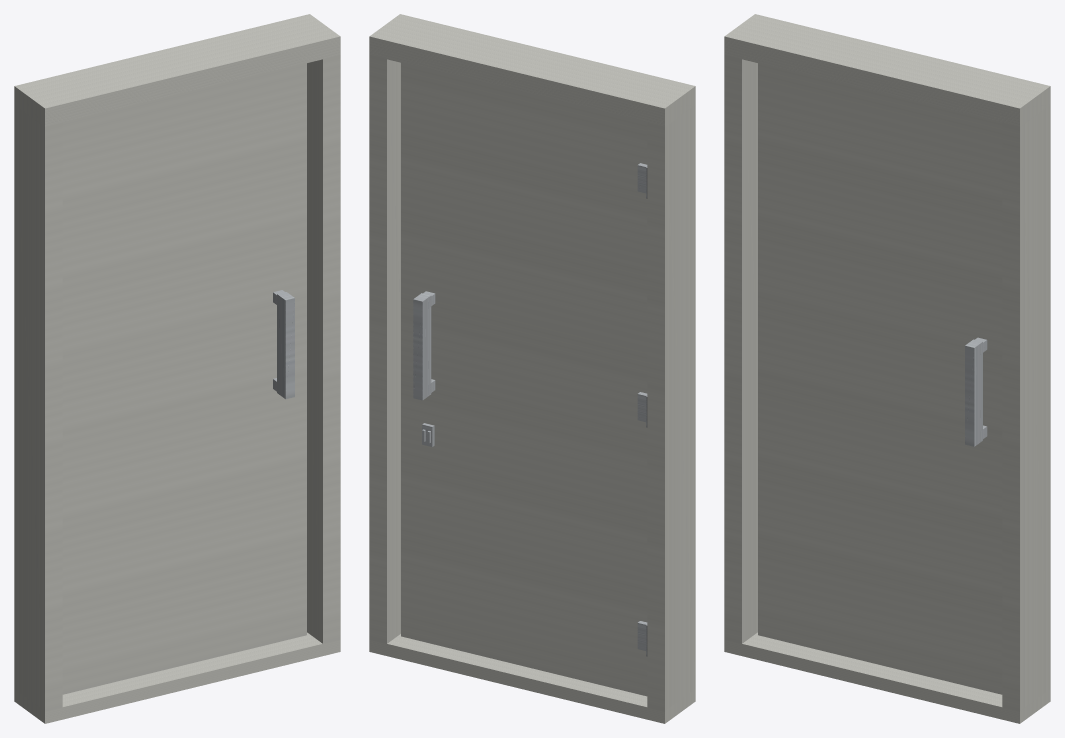
File: door-steel-1.glb
3 views of the same model, side by side, from view 1: azimuth 30°, elevation 25°; view 2: azimuth 150°, elevation 25°; view 3: azimuth 330°, elevation 25° (orthographic).
Visible parts, largest first — view 1: passenger-swing-door, DoorSteel1; view 2: passenger-swing-door, DoorSteel1; view 3: passenger-swing-door, DoorSteel1.
Boxes of the visible parts, x1=… form: passenger-swing-door: x1=62, y1=63, x2=306, y2=694; DoorSteel1: x1=14, y1=14, x2=340, y2=723; passenger-swing-door: x1=401, y1=63, x2=647, y2=696; DoorSteel1: x1=369, y1=14, x2=695, y2=723; passenger-swing-door: x1=758, y1=63, x2=1002, y2=694; DoorSteel1: x1=724, y1=14, x2=1050, y2=723.
Size of the model in its own units: 1 by 1.99 by 0.19.
Materials: 2 (2 with a texture image).
